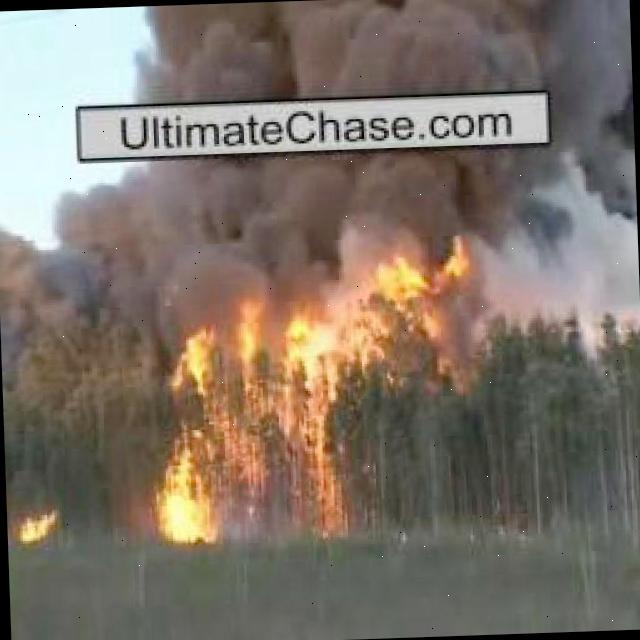fire: (153, 308, 342, 556), (368, 244, 488, 372), (19, 496, 65, 547)
